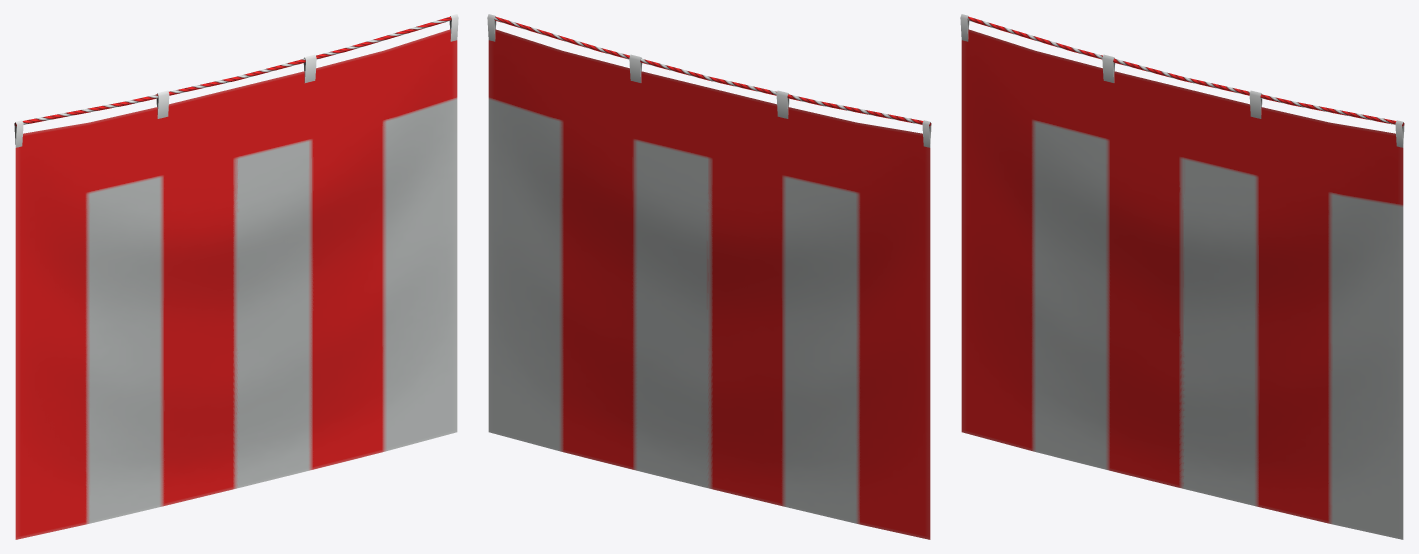
The model's file is set_redandwhite_curtain_02.fbx.
3 views of the same model, side by side, from view 1: azimuth 30°, elevation 25°; view 2: azimuth 150°, elevation 25°; view 3: azimuth 330°, elevation 25° (orthographic).
Parts seen in each view (by area): view 1: set_redandwhite_curtain_02; view 2: set_redandwhite_curtain_02; view 3: set_redandwhite_curtain_02.
Boxes of the visible parts, x1=… form: set_redandwhite_curtain_02: x1=14, y1=14, x2=458, y2=539; set_redandwhite_curtain_02: x1=487, y1=14, x2=931, y2=539; set_redandwhite_curtain_02: x1=960, y1=14, x2=1404, y2=539.
Size of the model in its own units: 200 by 182 by 2.01.
